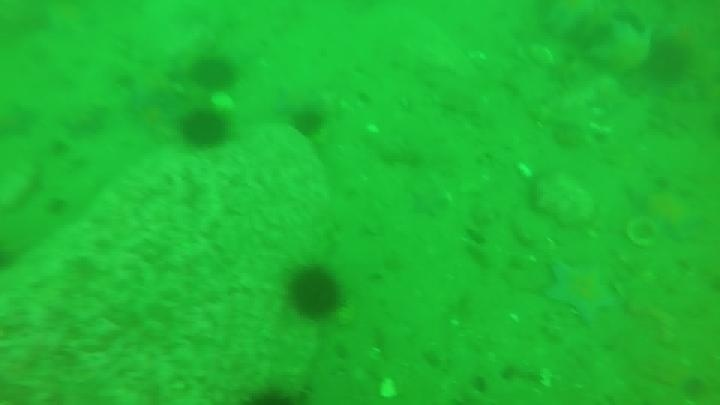echinus: (285, 263, 345, 322), (644, 37, 694, 86), (178, 107, 231, 151), (189, 54, 239, 94), (247, 382, 307, 405), (289, 105, 327, 140)
starfish: (543, 259, 618, 326), (628, 184, 706, 243), (407, 182, 451, 219)
